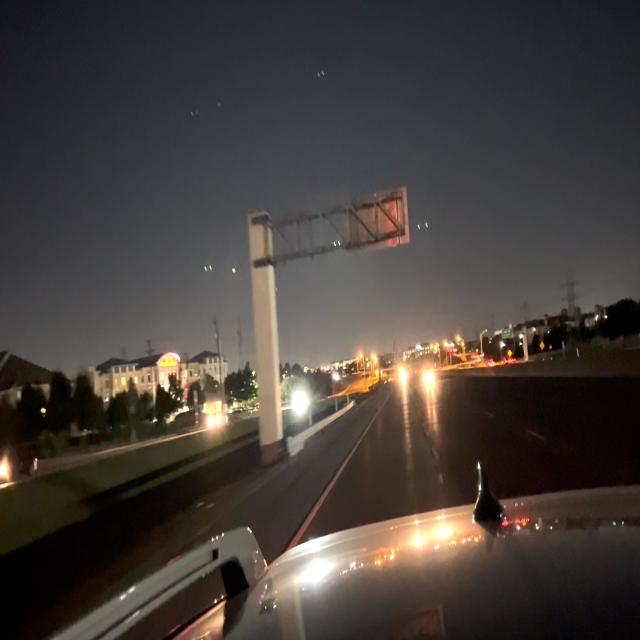back-of-sign: (344, 183, 412, 268)
